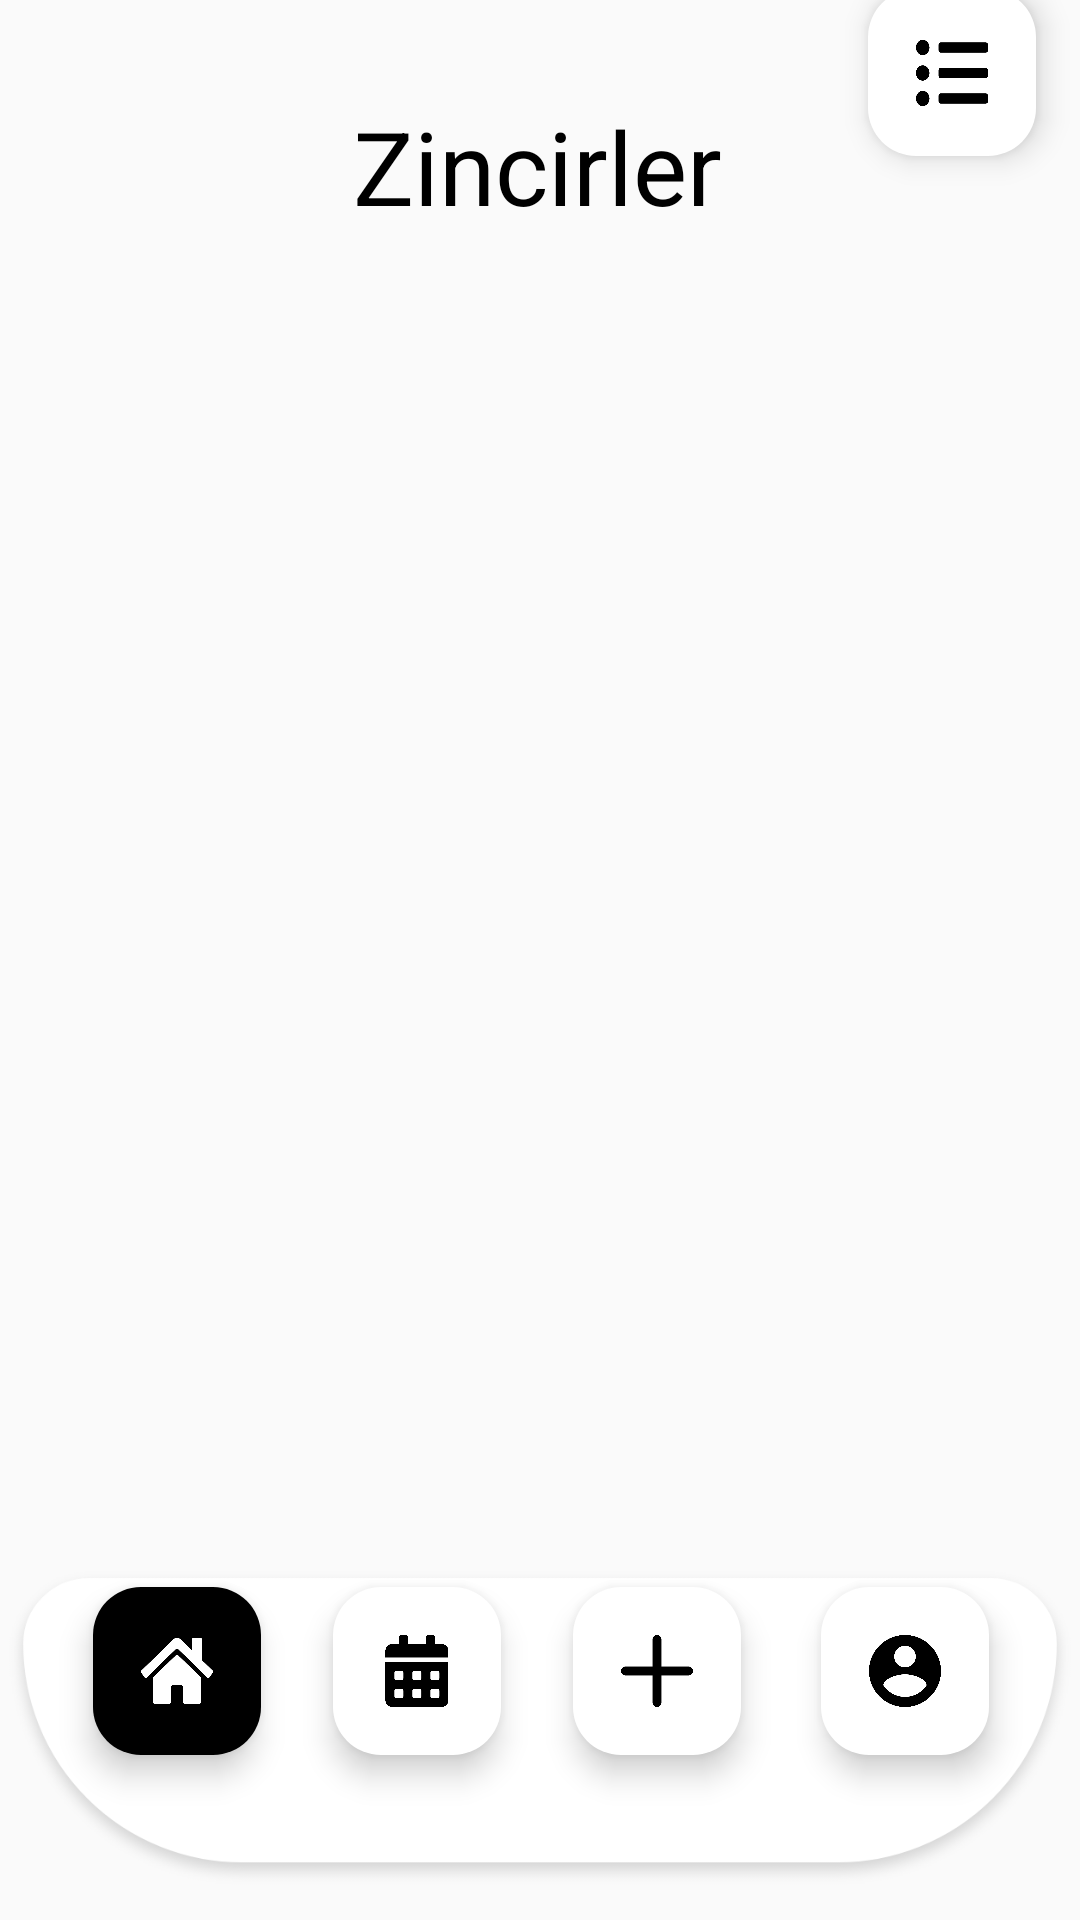

Screen size 1080×1920. Icon name, then its box in pixels as (x1, y1, x2, y2):
calendar: (385, 1635, 501, 1717)
list: (868, 0, 1036, 156)
